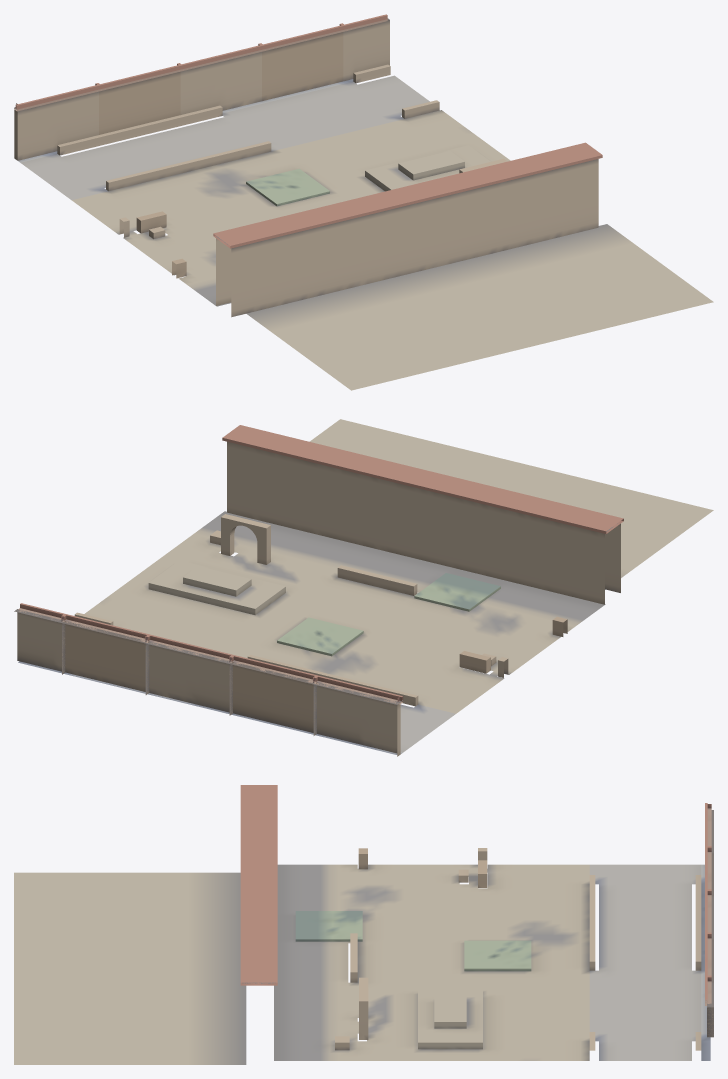
The picture shows the model from 3 angles, top to bottom: view 1: azimuth 30°, elevation 25°; view 2: azimuth 150°, elevation 25°; view 3: azimuth 270°, elevation 25°; orthographic projection. The views are drawn at different scales.
Parts seen in each view (by area): view 1: t; view 2: t; view 3: t.
Boxes of the visible parts, x1,y1,x2,y2 form: t: (14, 14, 713, 390); t: (14, 419, 713, 756); t: (14, 785, 713, 1064).
Size of the model in its own units: 51.27 by 9.35 by 75.37.
